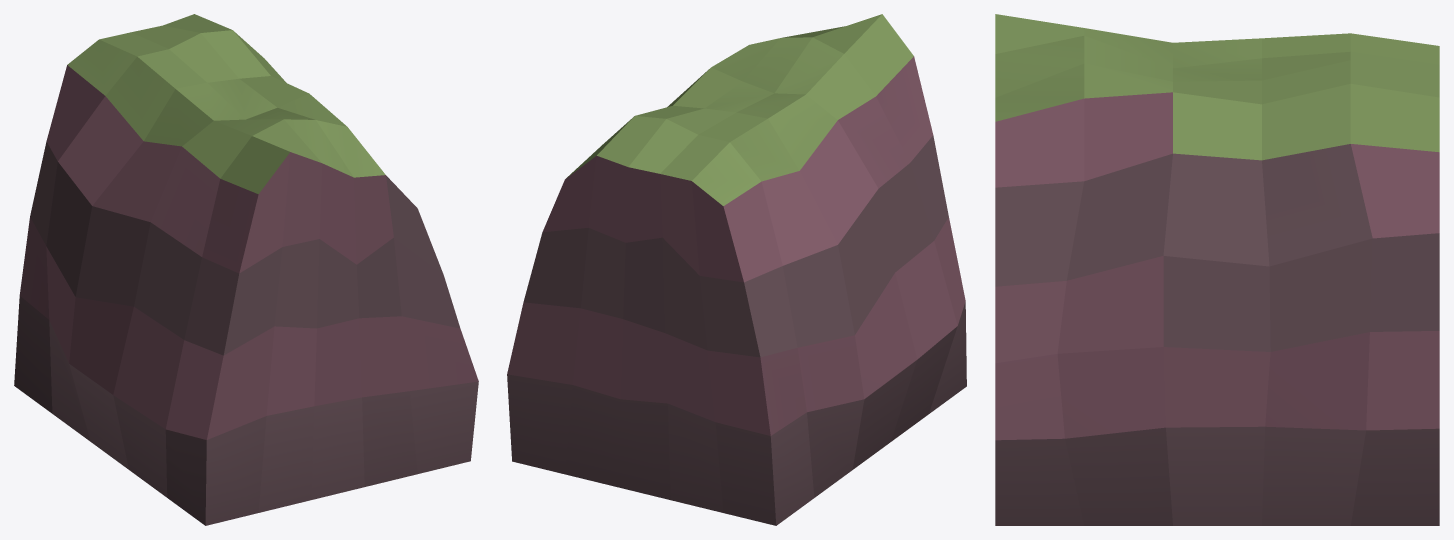
File: roca_recta.glb
The picture shows the model from 3 angles, left to right: view 1: azimuth 30°, elevation 25°; view 2: azimuth 150°, elevation 25°; view 3: azimuth 270°, elevation 25°; orthographic projection. The views are drawn at different scales.
Visible parts, largest first — view 1: propforge-cuartos-roca_recta; view 2: propforge-cuartos-roca_recta; view 3: propforge-cuartos-roca_recta.
Part boxes in pixels (x1,y1,x2,y2): propforge-cuartos-roca_recta: [14, 14, 478, 525]; propforge-cuartos-roca_recta: [507, 14, 966, 525]; propforge-cuartos-roca_recta: [995, 14, 1439, 525].
Size of the model in its own units: 0.8884 by 1.02 by 1.
